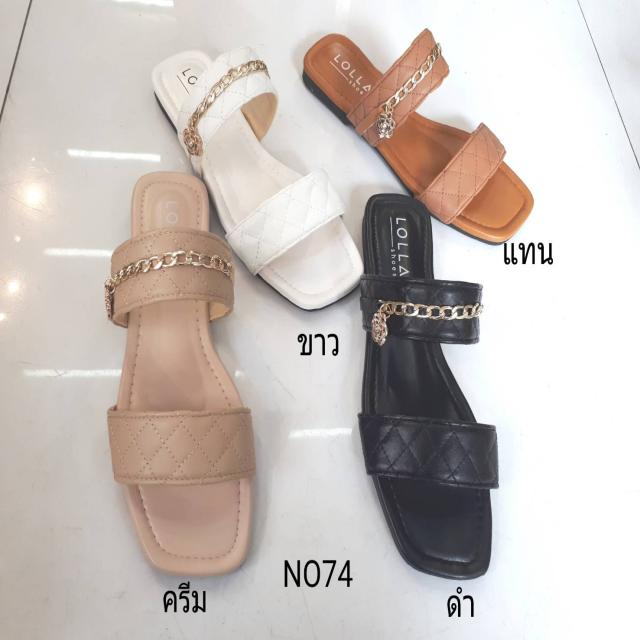black: (362, 195, 492, 576)
cream: (125, 175, 250, 575)
tan: (310, 35, 529, 246)
white: (152, 51, 363, 308)
